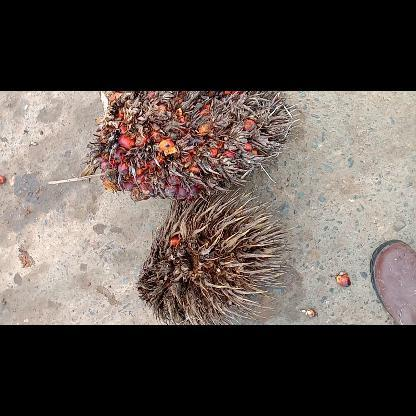Janjang kosong: (135, 188, 292, 324)
Terlalu masak: (49, 90, 300, 200)
